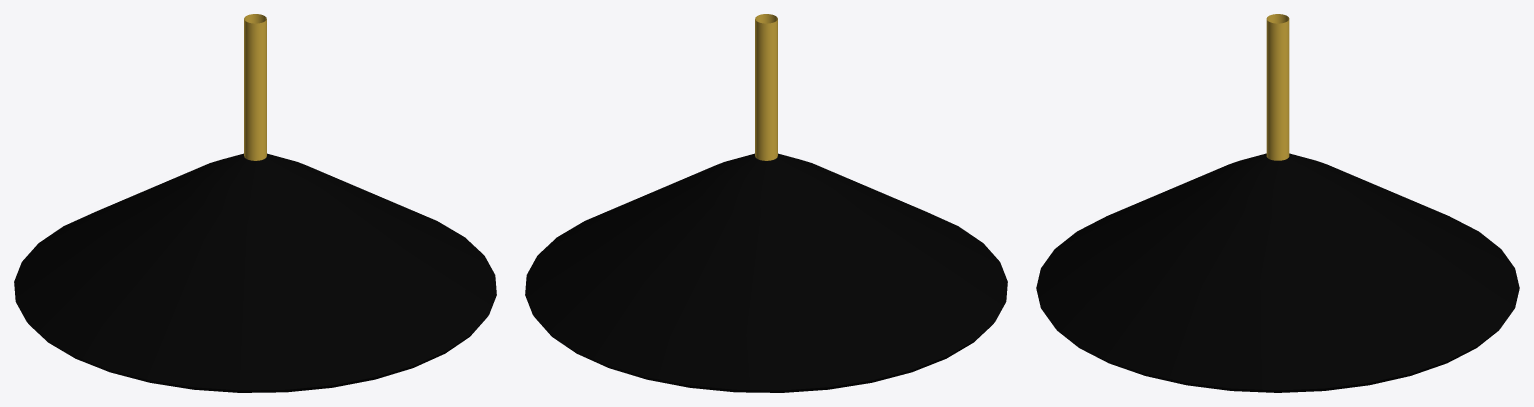
Rendered from light fixture.fbx.
3 renders of one model, left to right at view 1: azimuth 30°, elevation 25°; view 2: azimuth 150°, elevation 25°; view 3: azimuth 270°, elevation 25°, orthographic.
Parts seen in each view (by area): view 1: Lamp, Arm; view 2: Lamp, Arm; view 3: Lamp, Arm.
Boxes of the visible parts, x1,y1,x2,y2 form: Lamp: (14,153,496,392); Arm: (244,14,266,160); Lamp: (525,153,1007,392); Arm: (755,14,777,160); Lamp: (1036,153,1519,392); Arm: (1266,14,1289,160).
Size of the model in its own units: 768 by 517 by 768.
